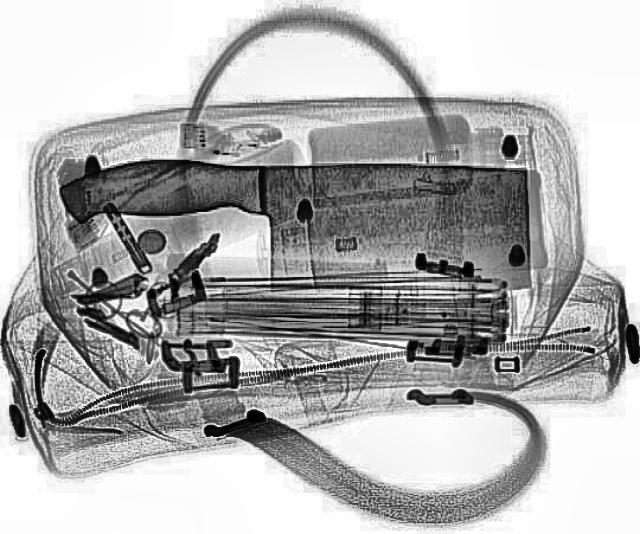Knife: (52, 154, 536, 296)
